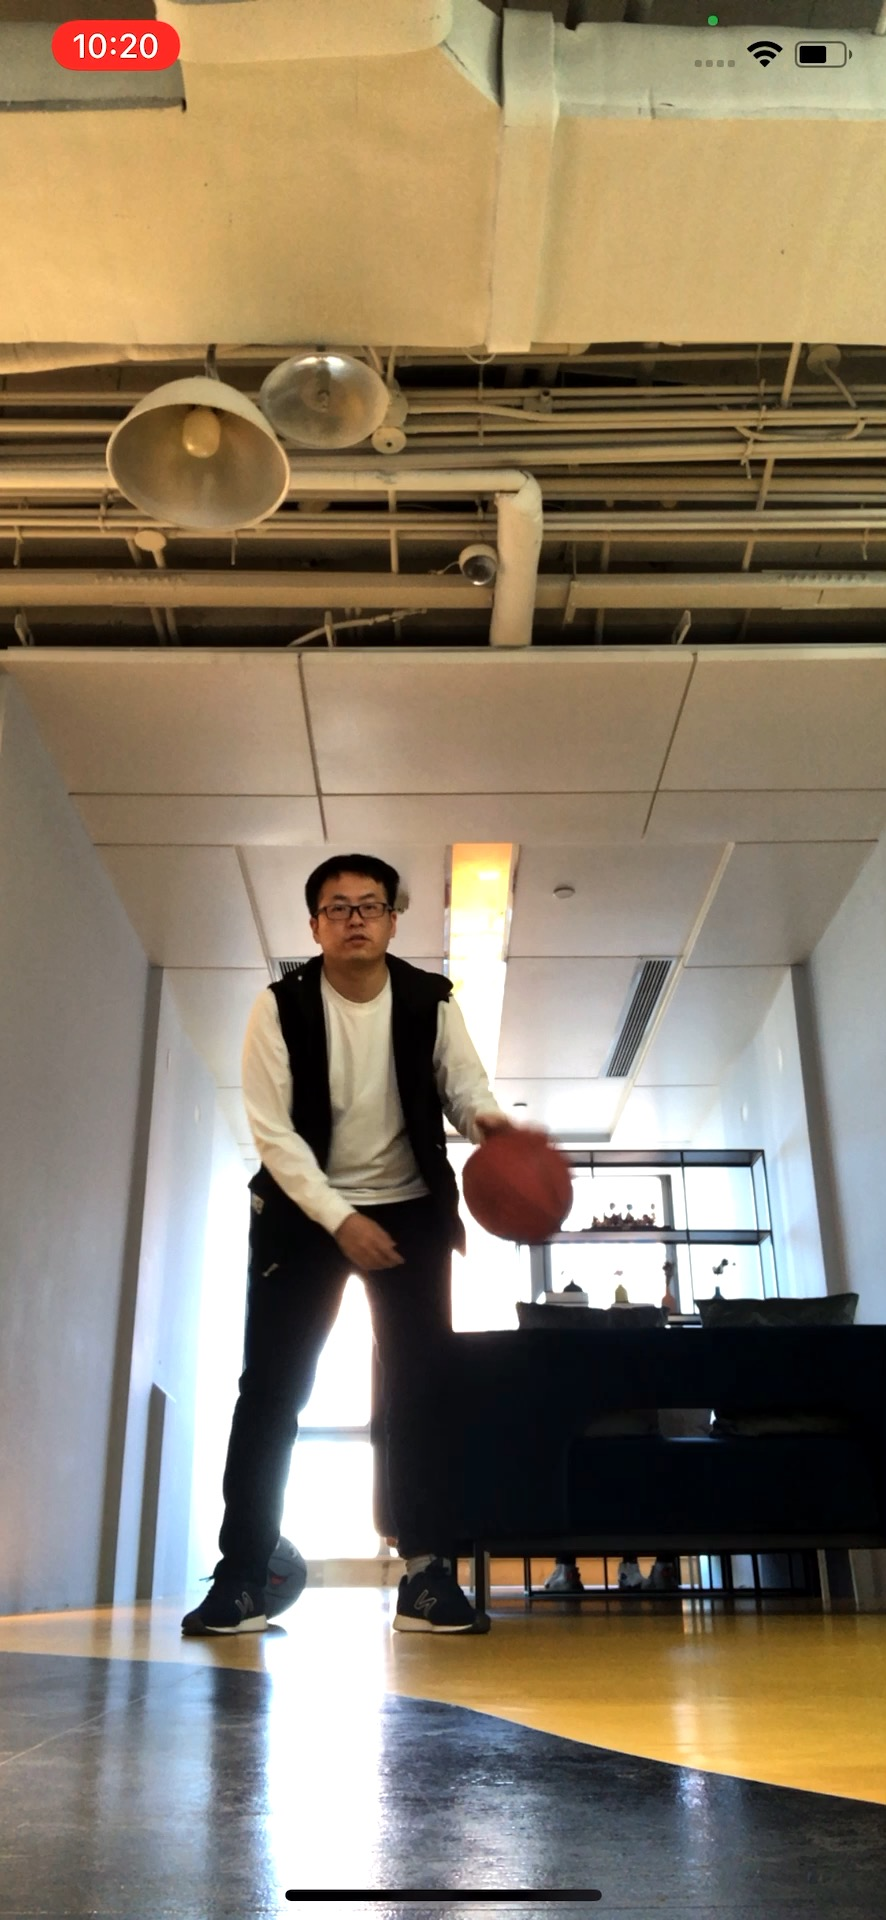ball: (465, 1133, 574, 1243)
